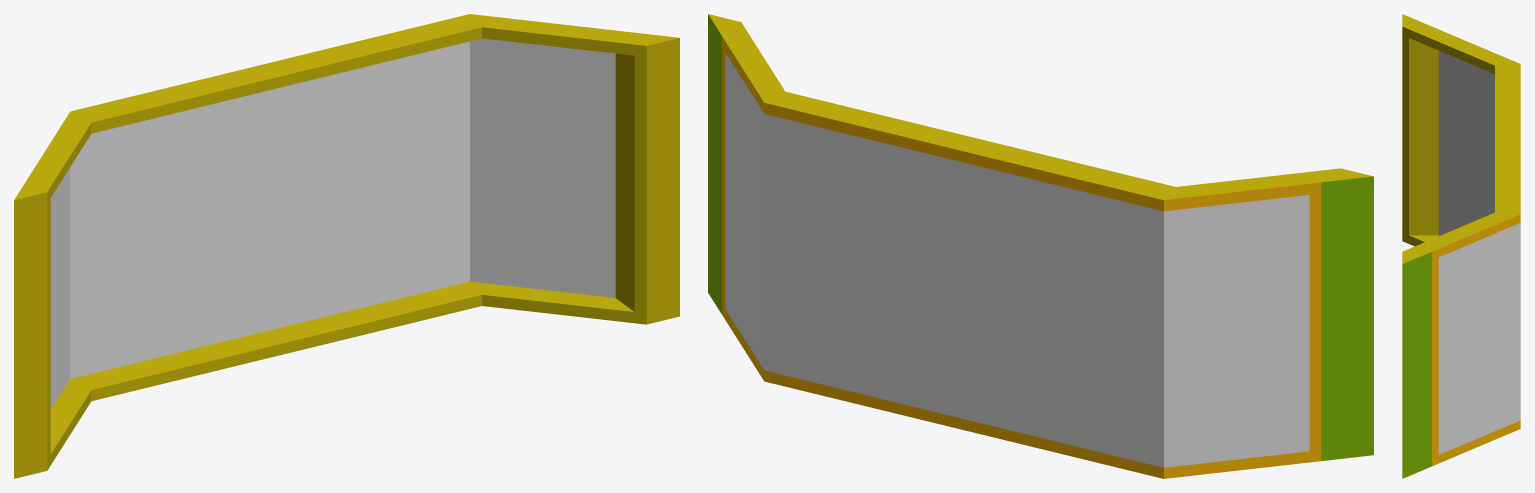
Rendered from window_panoramic_5x1x2.dae.
3 renders of one model, left to right at view 1: azimuth 30°, elevation 25°; view 2: azimuth 150°, elevation 25°; view 3: azimuth 270°, elevation 25°, orthographic. The views are drawn at different scales.
Parts seen in each view (by area): view 1: Cube; view 2: Cube; view 3: Cube.
Part boxes in pixels (bbox=[...]): Cube: bbox=[14, 14, 679, 478]; Cube: bbox=[708, 14, 1373, 478]; Cube: bbox=[1402, 14, 1520, 478].
Bounding box in the file's own units: 1.25 × 0.25 × 0.5.
